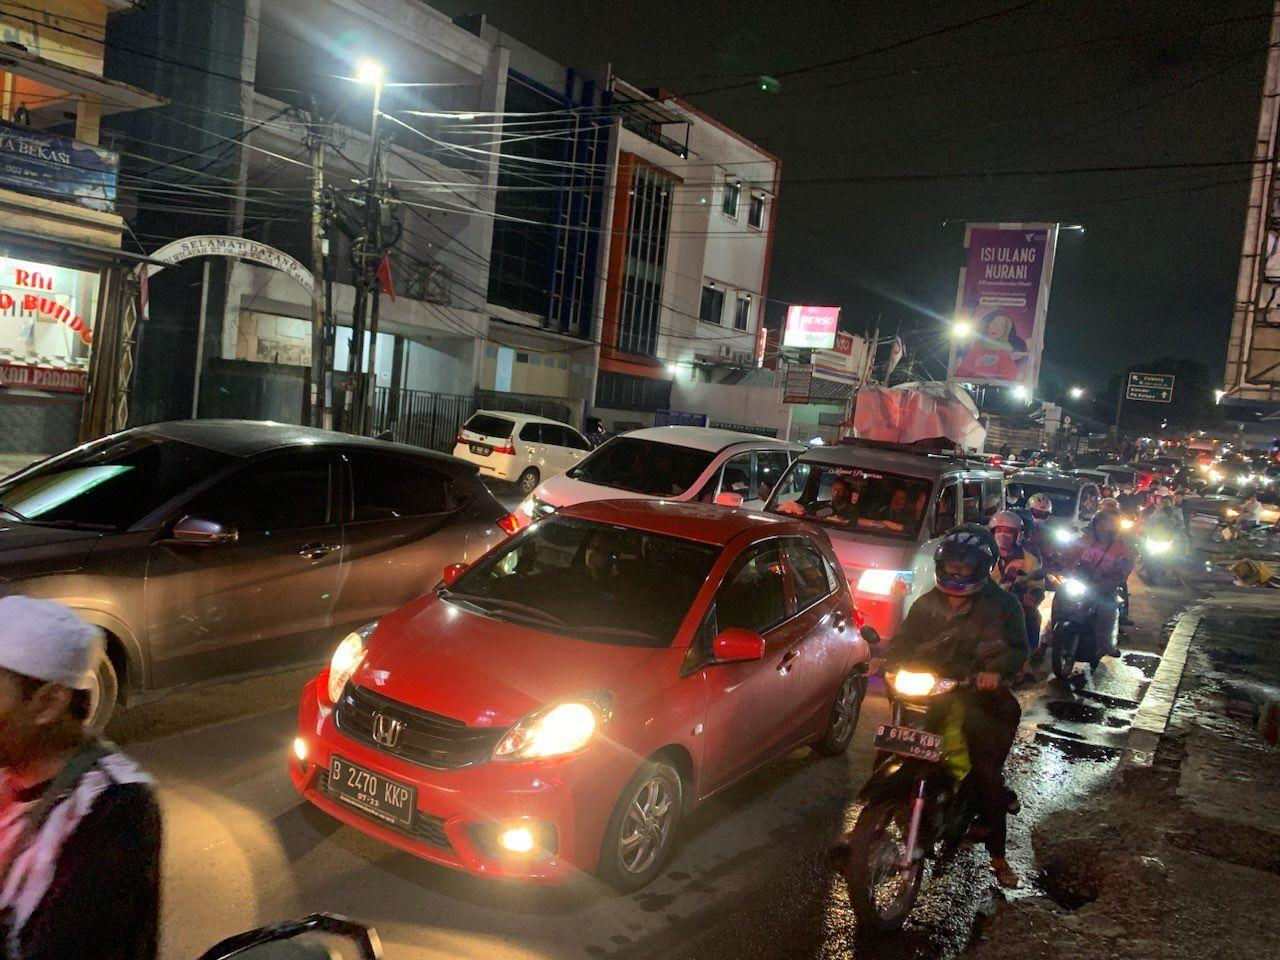Pothole: (1016, 828, 1135, 943), (1176, 793, 1280, 896), (1193, 633, 1267, 738)
